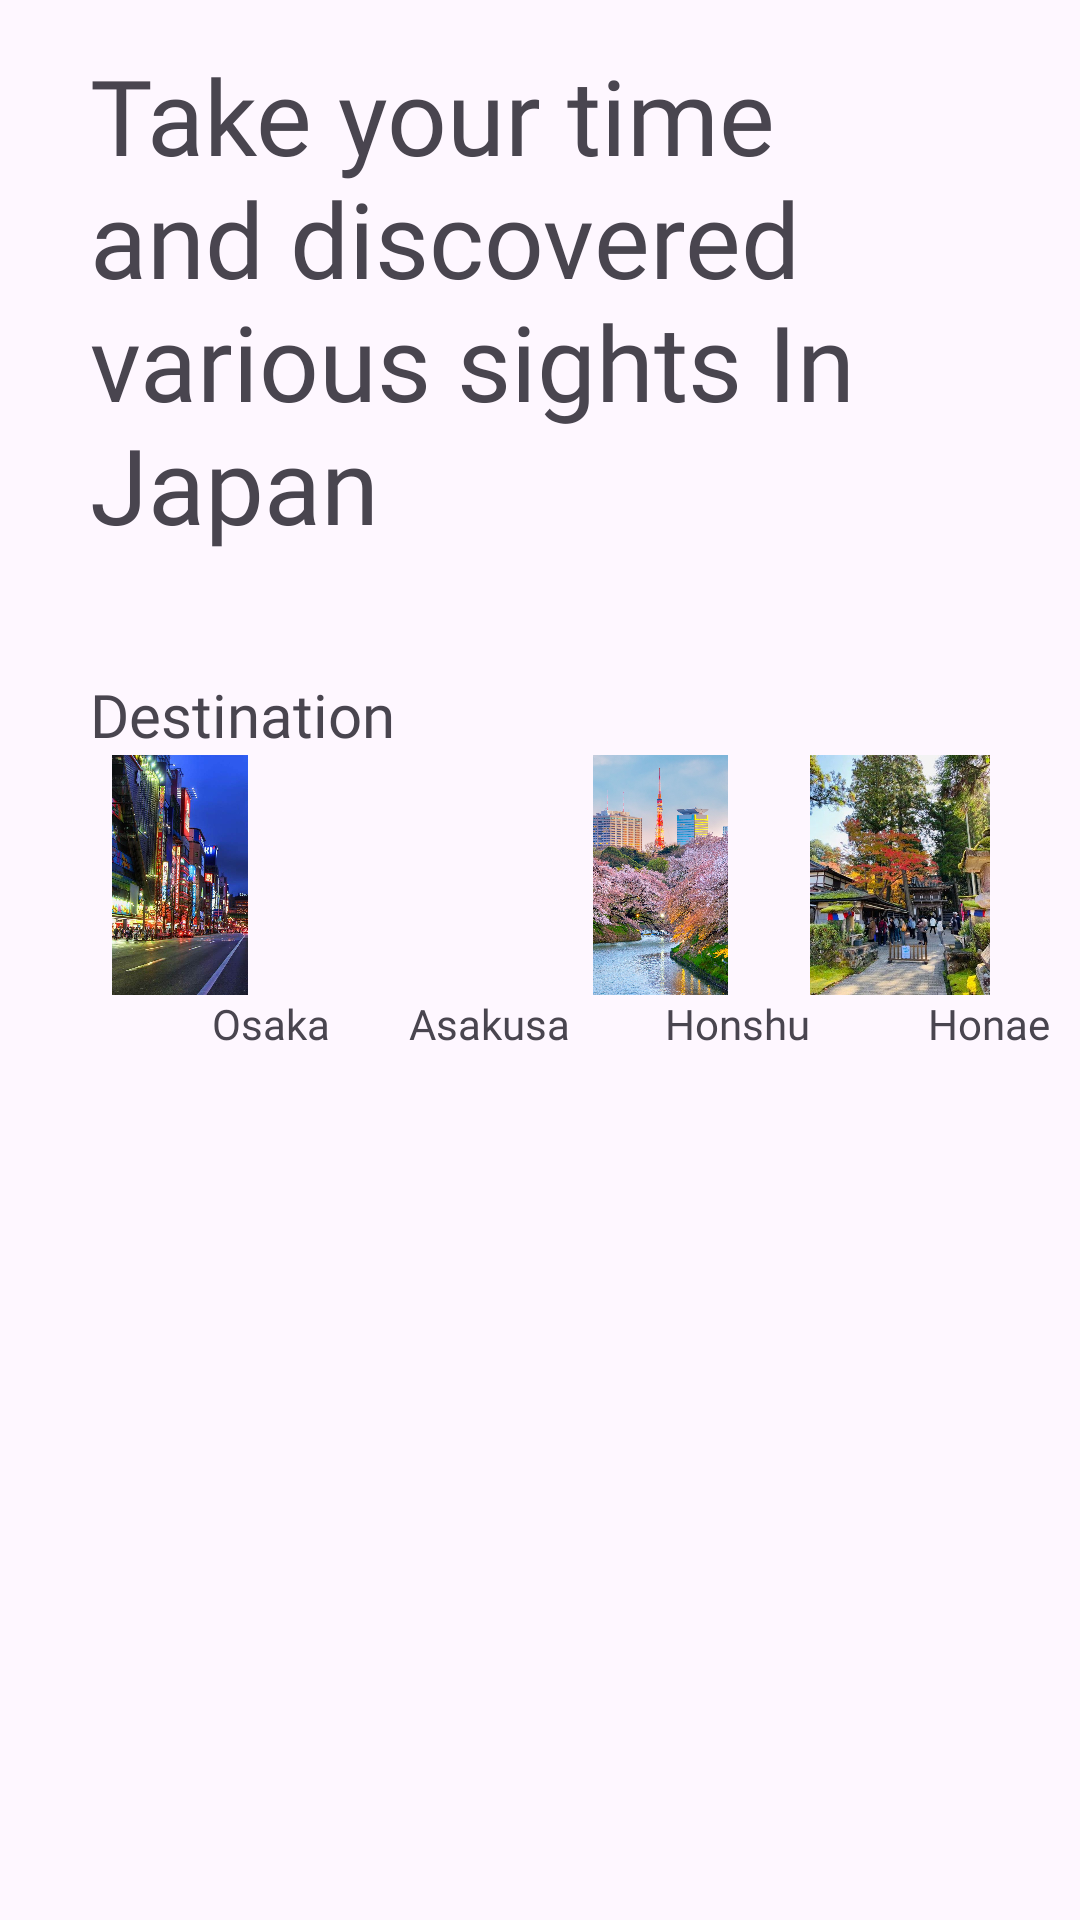

Where to tap for icons on this 1080px x 1920px app screen, as [x,y]:
jepang: [660,875], [900,875]
jepang kota: [180,875]
